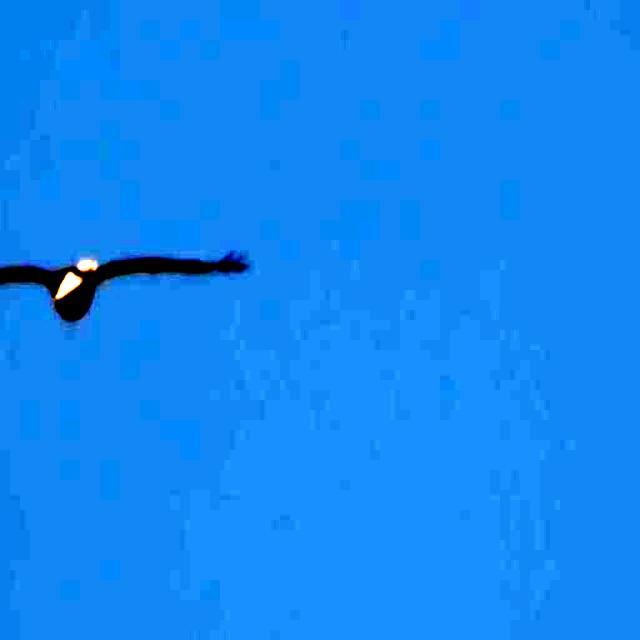airplane: (0, 235, 261, 352)
